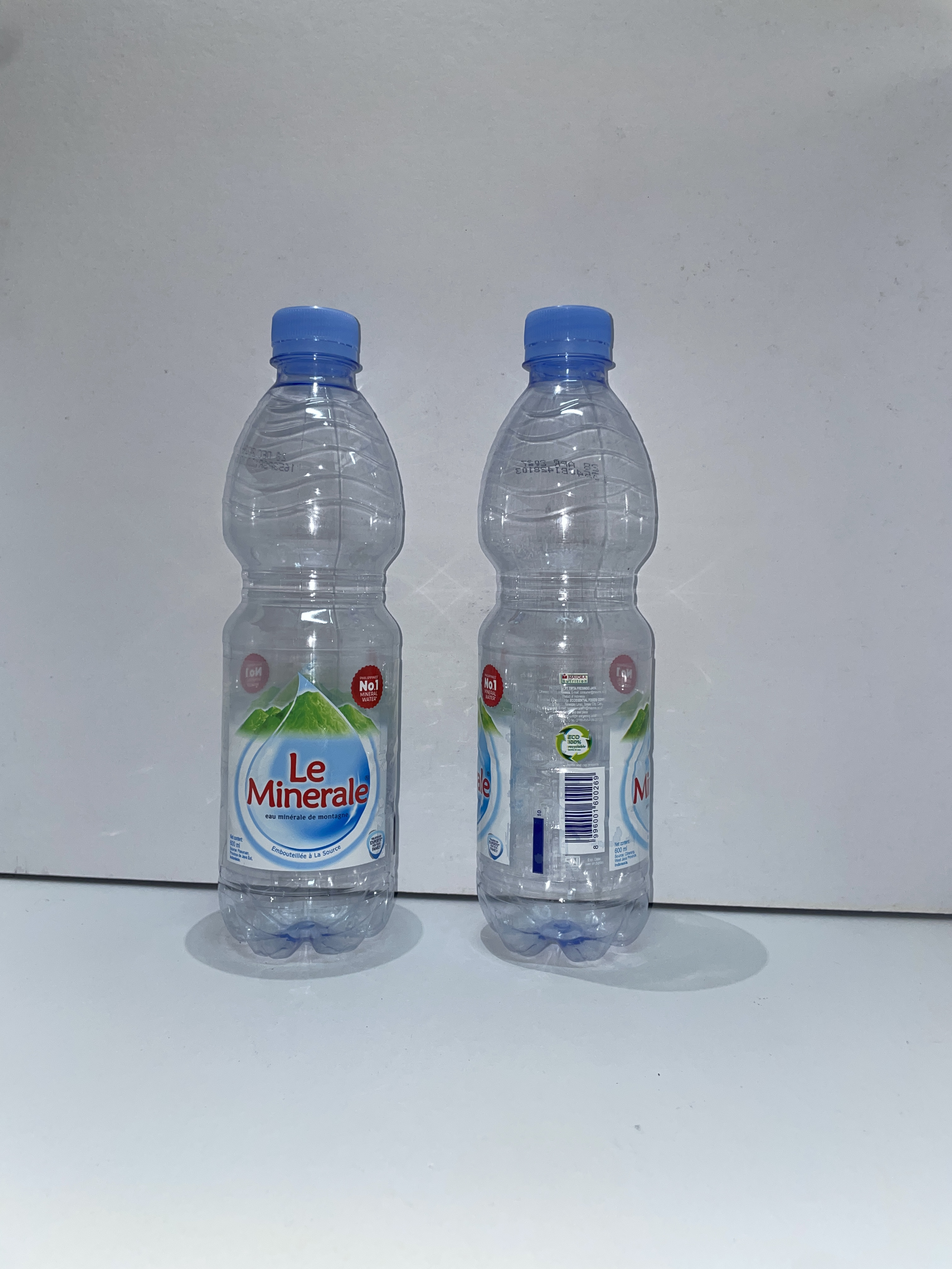Le Minerale 600ml: (218, 306, 404, 960), (476, 306, 656, 964)
